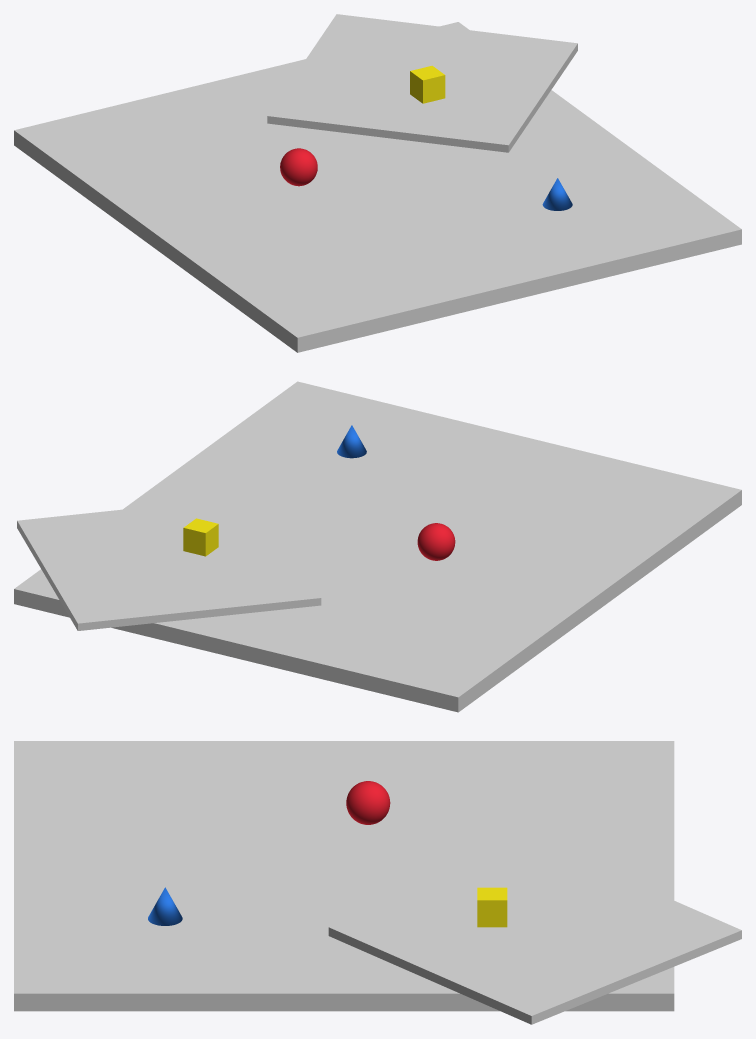
Rendered from BlenderScene.fbx.
The picture shows the model from 3 angles, top to bottom: view 1: azimuth 30°, elevation 25°; view 2: azimuth 150°, elevation 25°; view 3: azimuth 270°, elevation 25°; orthographic projection. The views are drawn at different scales.
Visible parts, largest first — view 1: Floor, Floor.001, Sphere, Cube, Cone; view 2: Floor, Floor.001, Sphere, Cube, Cone; view 3: Floor, Floor.001, Sphere, Cube, Cone.
Boxes of the visible parts, x1,y1,x2,y2 form: Floor: (14,22,741,352); Floor.001: (267,14,577,152); Sphere: (280,148,317,186); Cube: (410,65,445,103); Cone: (542,178,572,210); Floor: (14,381,741,712); Floor.001: (17,495,321,630); Sphere: (417,523,455,560); Cube: (183,518,218,556); Cone: (337,425,366,458); Floor: (14,741,674,1011); Floor.001: (328,841,741,1024); Sphere: (346,781,390,824); Cube: (477,887,507,927); Cone: (148,887,182,925).
Bounding box in the file's own units: 163 × 16.79 × 176.
